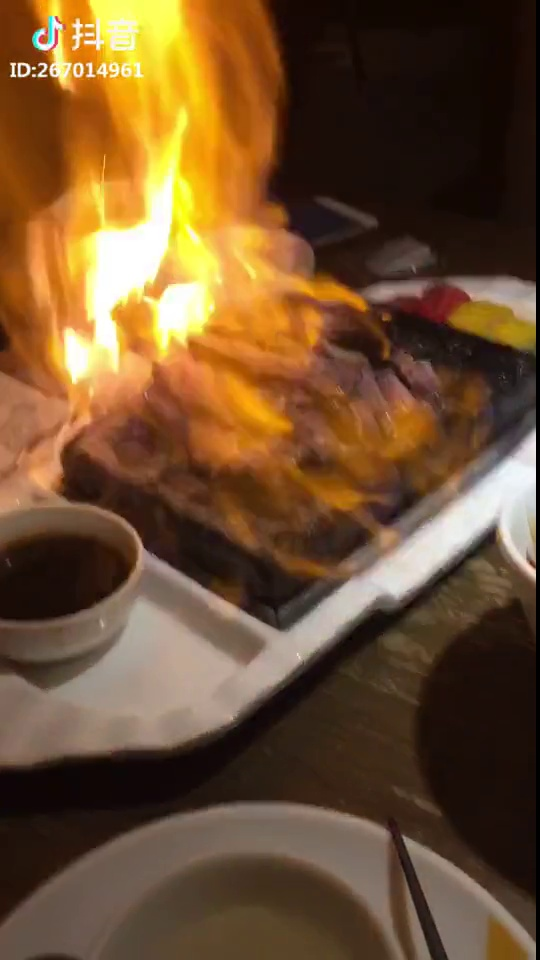fire: (19, 63, 286, 357)
